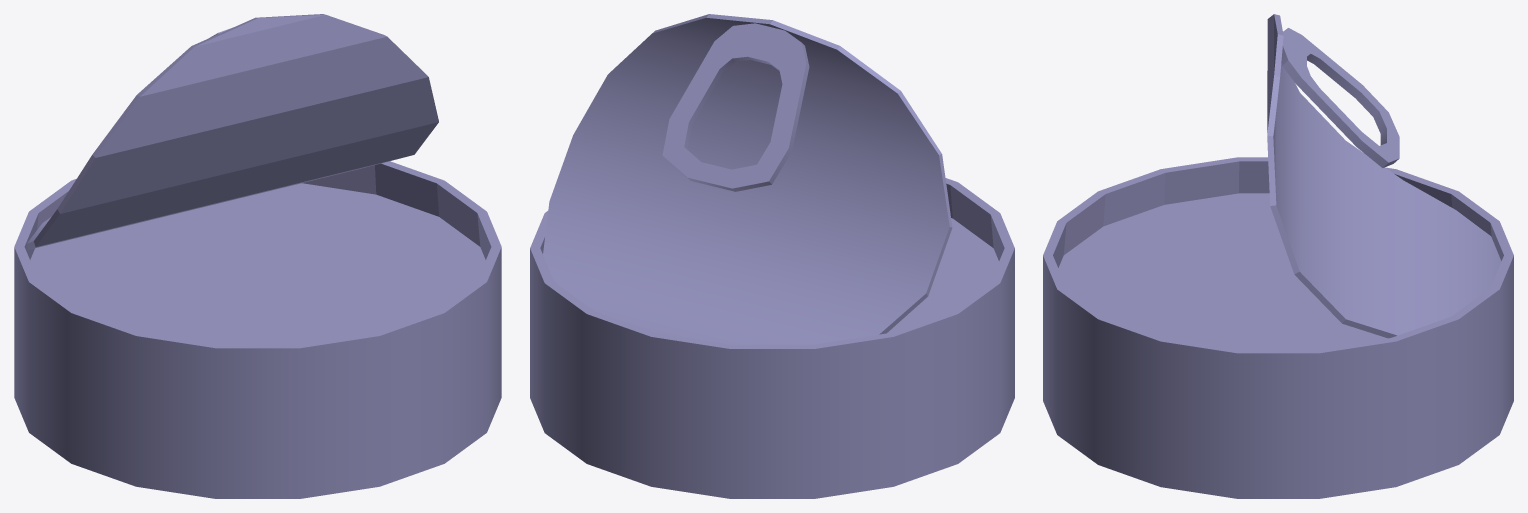
The model's file is tuna can.fbx.
3 views of the same model, side by side, from view 1: azimuth 30°, elevation 25°; view 2: azimuth 150°, elevation 25°; view 3: azimuth 270°, elevation 25° (orthographic). The views are drawn at different scales.
Parts seen in each view (by area): view 1: Cylinder001; view 2: Cylinder001; view 3: Cylinder001.
Boxes of the visible parts, bbox=[...] form: Cylinder001: bbox=[14, 14, 501, 498]; Cylinder001: bbox=[530, 14, 1014, 498]; Cylinder001: bbox=[1043, 14, 1513, 498].
Size of the model in its own units: 14.85 by 12.96 by 15.08.
